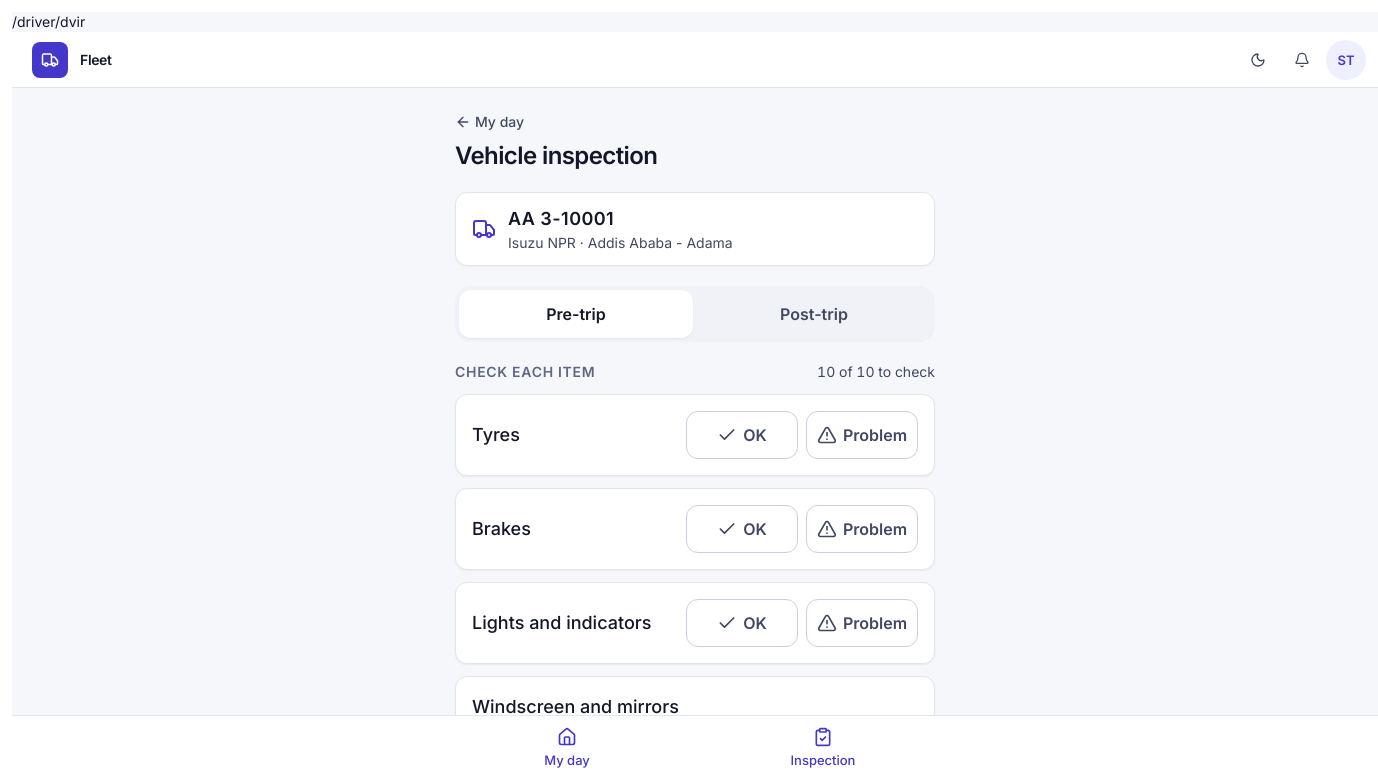
Test: Driver vehicle inspection (FMS-37, S-12) › switching between pre- and post-trip starts the checklist again
Expected: the heading "Vehicle inspection" is shown, top-left (455, 141), bottom-right (657, 170)
Click the radio button labelled "OK" in the row of "Tyres".
click(742, 435)  # box top-left (686, 411), bottom-right (798, 459)
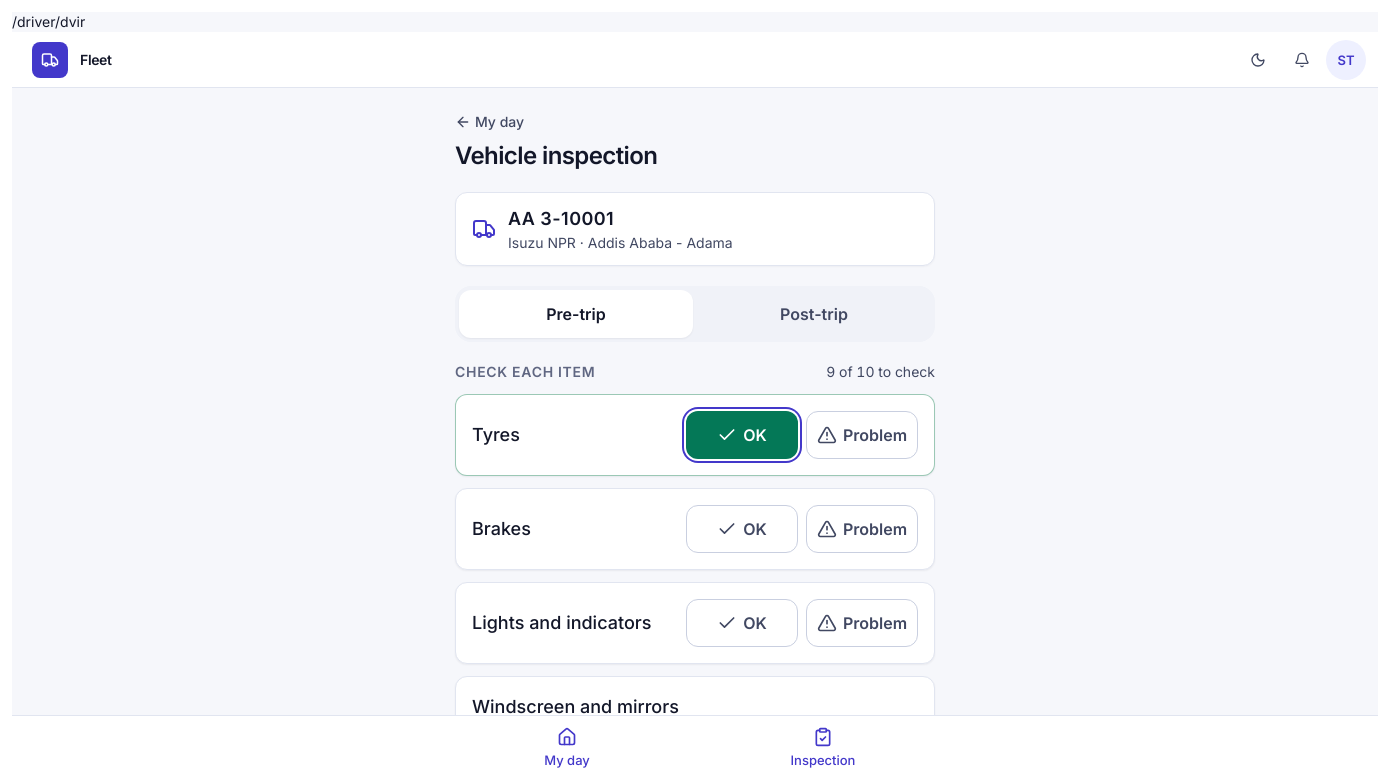
Now the text "9 of 10 to check" is shown, box top-left (826, 362), bottom-right (935, 382)
Click the radio button labelled "Post-trip".
click(814, 314)  # box top-left (780, 304), bottom-right (848, 324)
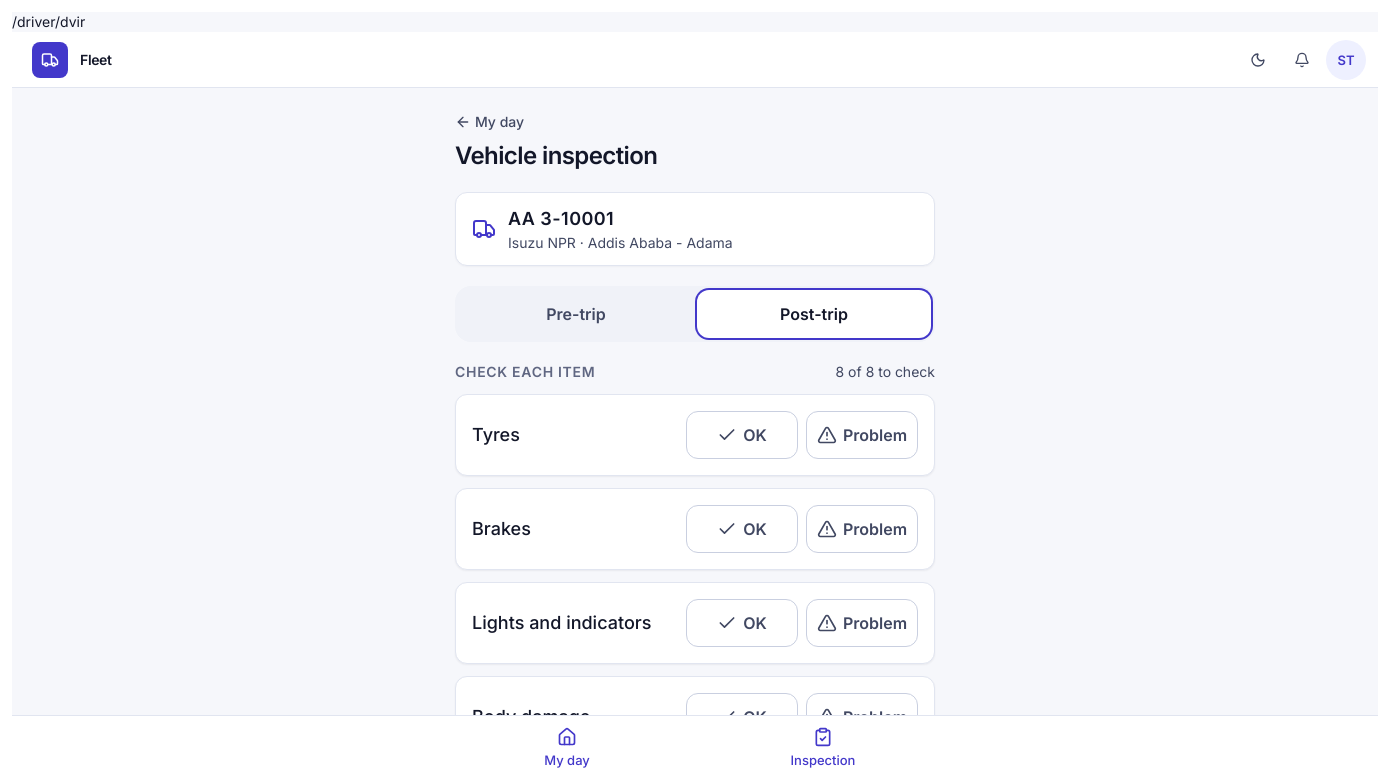
Now the text "8 of 8 to check" is shown, box top-left (835, 362), bottom-right (935, 382)
